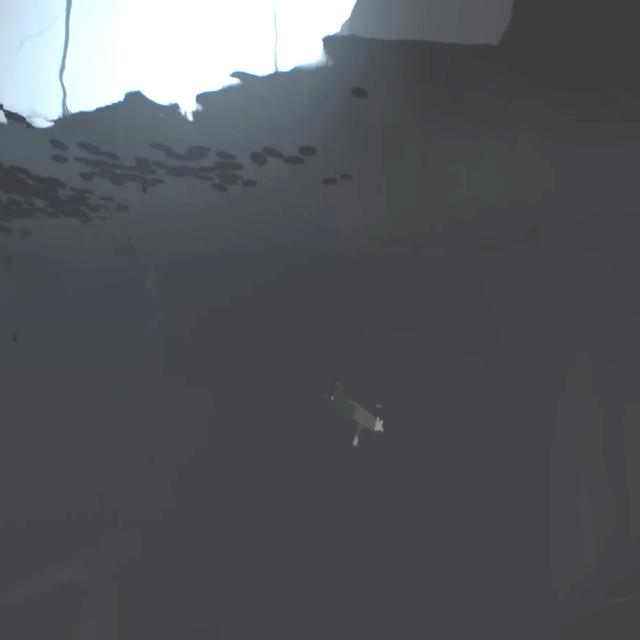boy: (353, 404, 385, 455)
